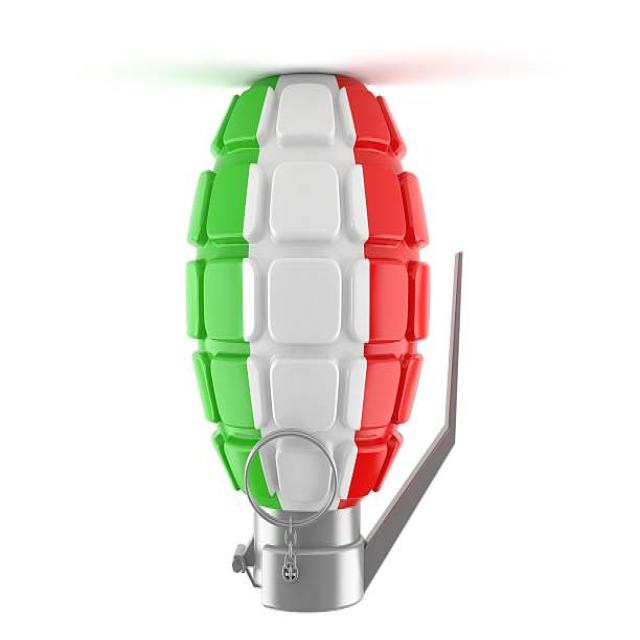grenade: (176, 62, 473, 618)
